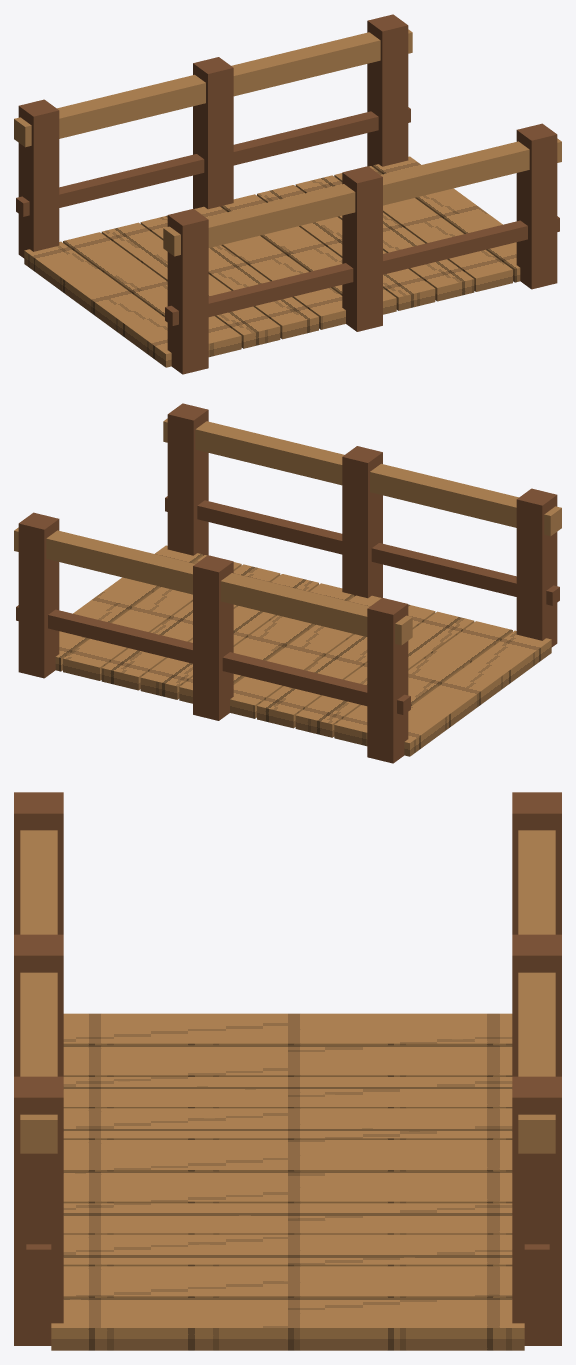
The model's file is bridge.glb.
The picture shows the model from 3 angles, top to bottom: view 1: azimuth 30°, elevation 25°; view 2: azimuth 150°, elevation 25°; view 3: azimuth 270°, elevation 25°; orthographic projection. The views are drawn at different scales.
Visible parts, largest first — view 1: village_bridge; view 2: village_bridge; view 3: village_bridge.
Part boxes in pixels (box(x1,y1,x2,y2)): village_bridge: box(14, 14, 561, 374); village_bridge: box(14, 403, 561, 763); village_bridge: box(14, 792, 561, 1350).
Bounding box in the file's own units: 60 × 22 × 44.
Materials: 3 (1 with a texture image).
